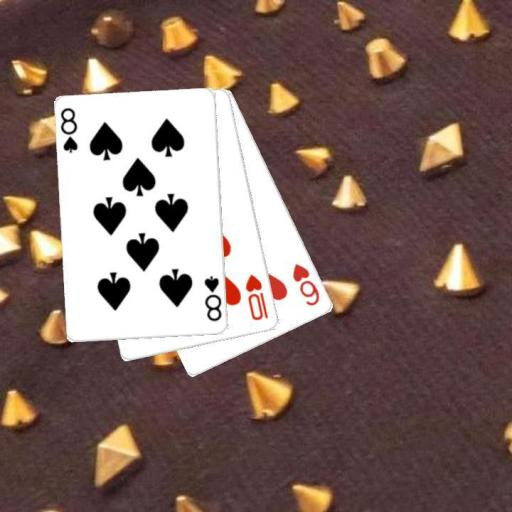10H: (243, 272, 270, 322)
6H: (290, 260, 322, 308)
8S: (58, 105, 80, 155), (202, 272, 223, 323)
